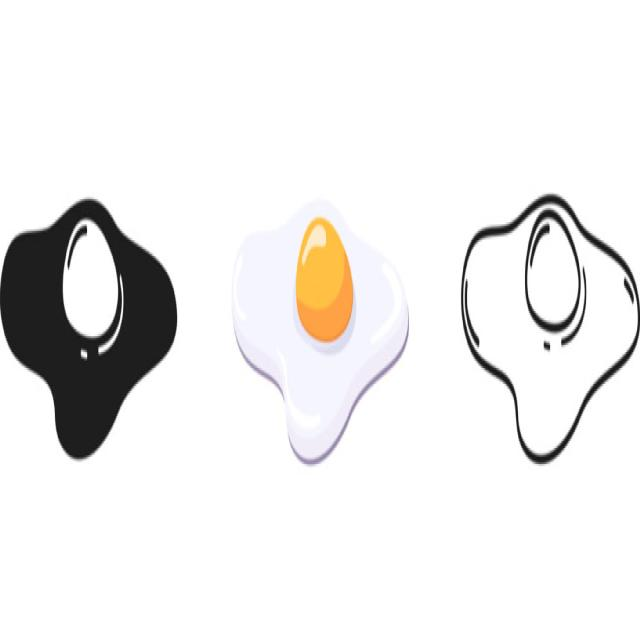Egg: (232, 202, 409, 460)
